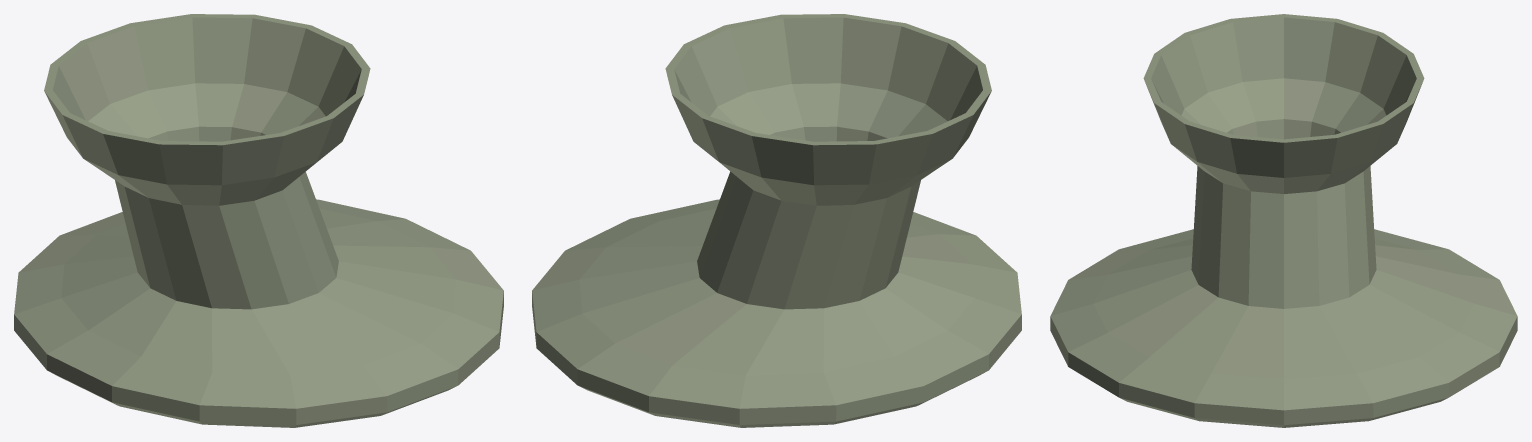
Rendered from ToiletPedestal.fbx.
3 views of the same model, side by side, from view 1: azimuth 30°, elevation 25°; view 2: azimuth 150°, elevation 25°; view 3: azimuth 270°, elevation 25° (orthographic). The views are drawn at different scales.
Parts seen in each view (by area): view 1: ToiletPedestal; view 2: ToiletPedestal; view 3: ToiletPedestal.
Boxes of the visible parts, left/top/right/bottom form: ToiletPedestal: left=14, top=14, right=503, bottom=427; ToiletPedestal: left=532, top=14, right=1021, bottom=427; ToiletPedestal: left=1050, top=14, right=1517, bottom=427.
Bounding box in the file's own units: 0.82 × 0.48 × 0.858.
